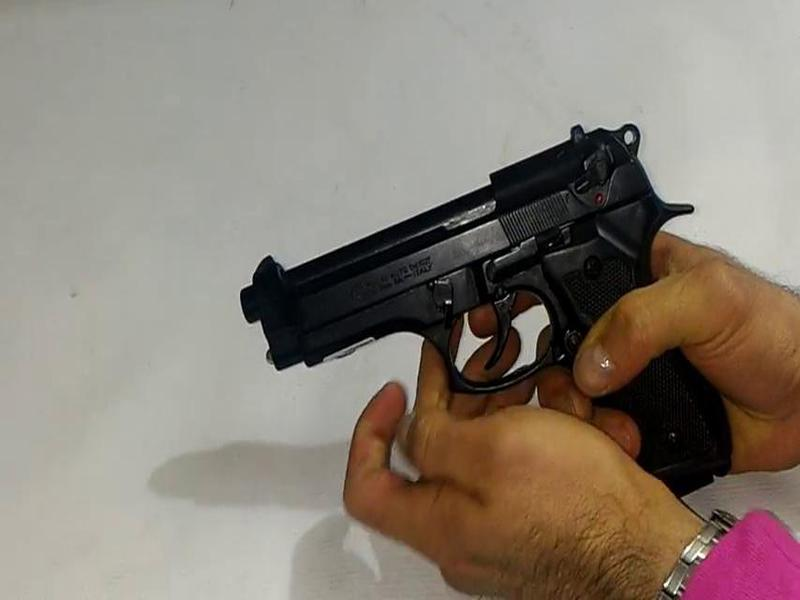Pistola: (223, 102, 794, 539)
